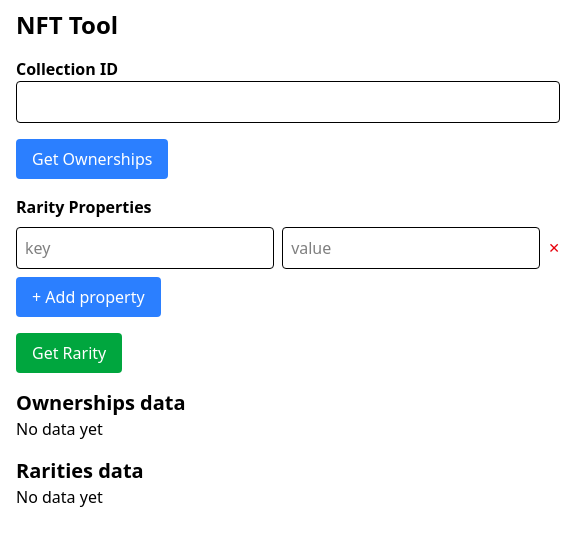
Test case: does not return rarity data when properties are empty
Type "test-collection" into the 1st field with class "rounded" at (288, 102), box [16,81,560,123]
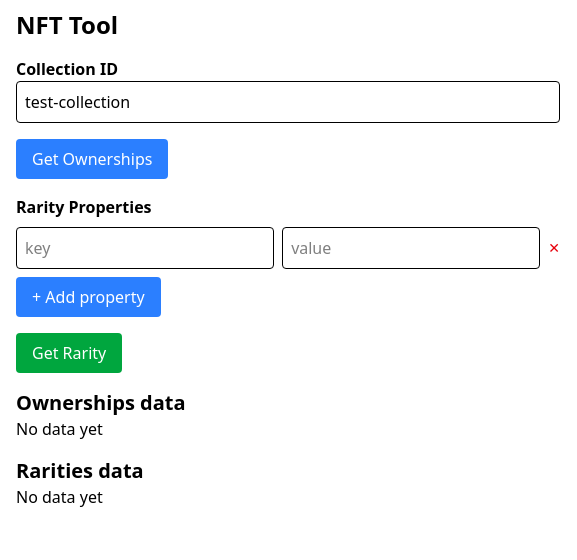
Click the button "Get Rarity" at (69, 353), box [16,333,122,373]
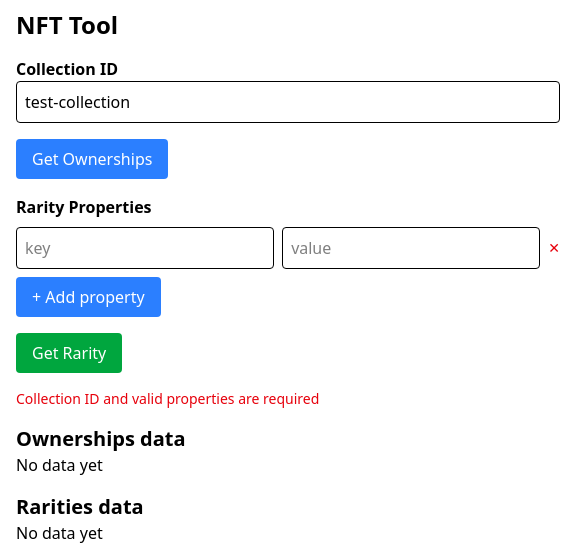
Check: the text "Collection ID and valid properties are required" is shown, box [16,389,319,408]
